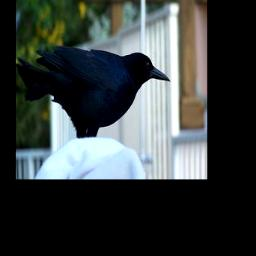Crow: (18, 44, 171, 136)
